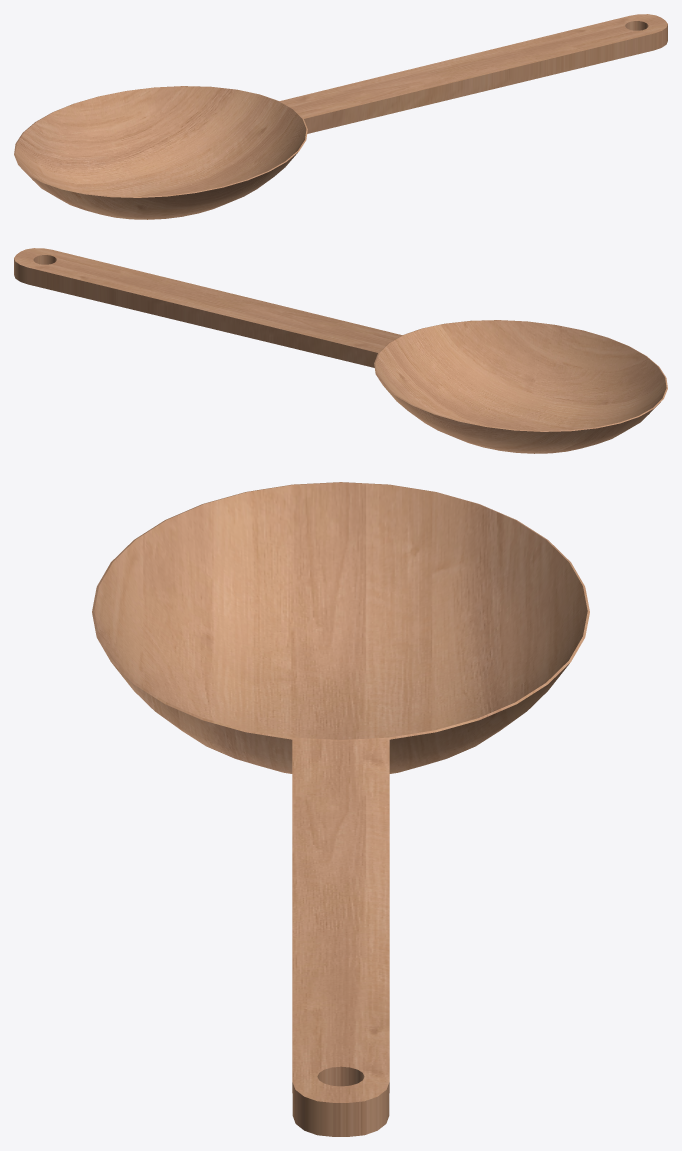
File: wooden_spoon.glb
The picture shows the model from 3 angles, top to bottom: view 1: azimuth 30°, elevation 25°; view 2: azimuth 150°, elevation 25°; view 3: azimuth 270°, elevation 25°; orthographic projection. The views are drawn at different scales.
Parts seen in each view (by area): view 1: wooden_spoon; view 2: wooden_spoon; view 3: wooden_spoon.
Boxes of the visible parts, x1=… form: wooden_spoon: x1=14, y1=14, x2=667, y2=219; wooden_spoon: x1=14, y1=248, x2=667, y2=453; wooden_spoon: x1=92, y1=482, x2=589, y2=1136.
Size of the model in its own units: 0.23 by 0.0194 by 0.078.
Materials: 1 (1 with a texture image).
